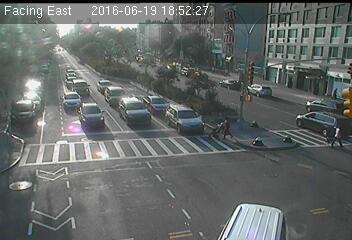neg: (298, 73, 316, 96), (20, 72, 37, 95), (297, 108, 314, 130), (204, 125, 220, 146), (63, 117, 77, 136)
pos: (328, 120, 350, 150), (219, 116, 237, 139), (326, 83, 343, 105)
